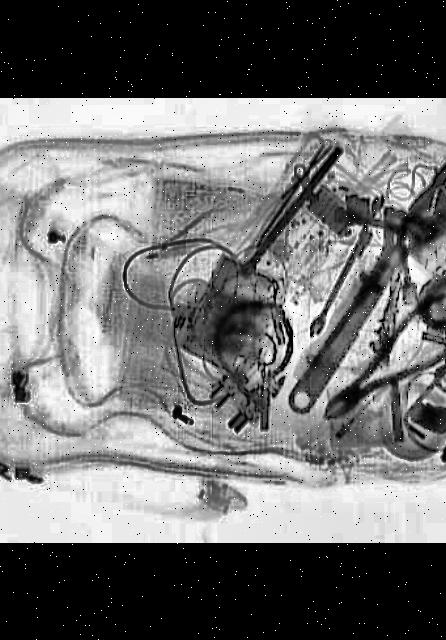Pliers: (294, 277, 446, 438)
Wrench: (271, 179, 446, 422)
